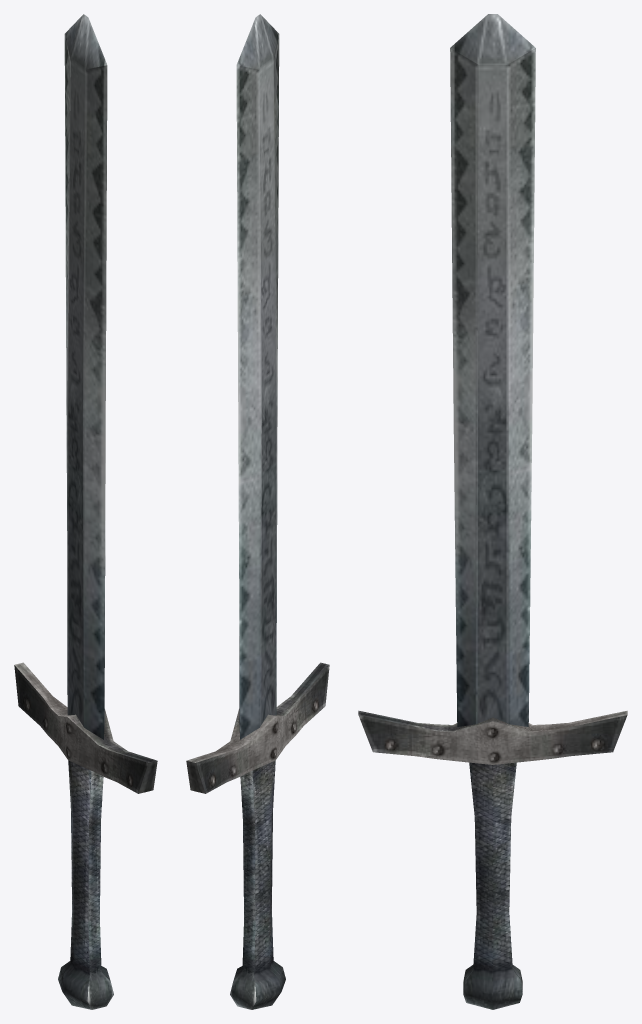
File: weapons_sword06.glb
The picture shows the model from 3 angles, left to right: view 1: azimuth 30°, elevation 25°; view 2: azimuth 150°, elevation 25°; view 3: azimuth 270°, elevation 25°; orthographic projection.
Visible parts, largest first — view 1: sword06; view 2: sword06; view 3: sword06.
Part boxes in pixels (<box>): sword06: <box>14,14,157,1009</box>; sword06: <box>186,14,329,1009</box>; sword06: <box>358,14,627,1009</box>.
Bounding box in the file's own units: 0.0495 × 0.9872 × 0.2434.
1 material, 1 textured.
